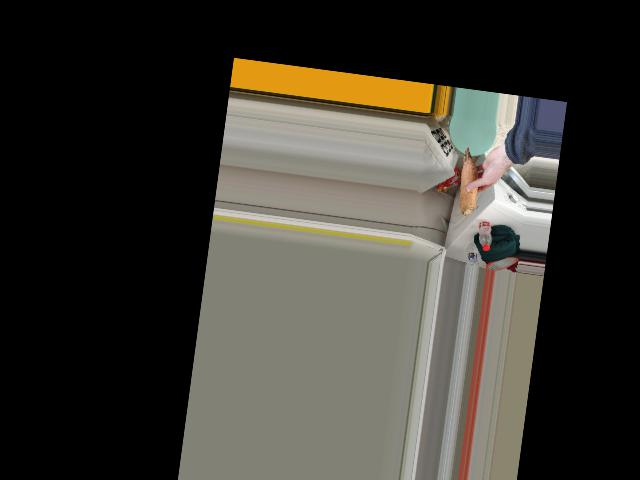sweet_potato: (451, 145, 488, 220)
